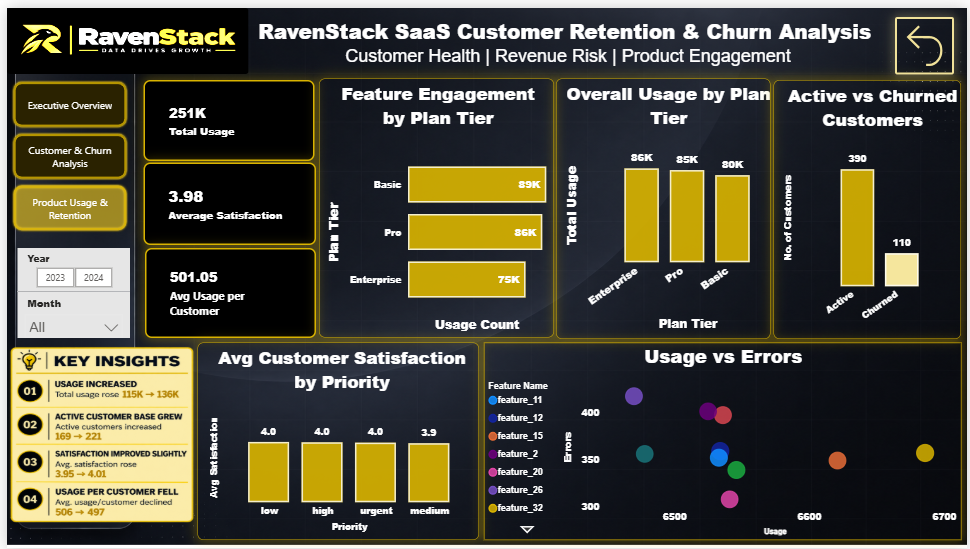

What the dashboard file says about the page in this screenshot:
{"tool":"powerbi","page":{"name":"Product Usage & Retention","canvas":[1280,720],"ordinal":2},"visuals":[{"type":"textbox","box":[322.5,7.5,850,80],"z":0},{"type":"cardVisual","fields":{"Data":["ravenstack_feature_usage.Total_Usage"]},"box":[182,96,228,108],"z":1000},{"type":"cardVisual","fields":{"Data":["ravenstack_support_tickets.Avg_Satisfaction"]},"box":[182,206,230,110],"z":2000},{"type":"cardVisual","fields":{"Data":["ravenstack_feature_usage.Avg_Usage/Customer"]},"box":[184,320,228,120],"z":3000},{"type":"columnChart","title":"Avg Customer Satisfaction by Priority","fields":{"Y":["ravenstack_support_tickets.Avg_Satisfaction"],"Category":["ravenstack_support_tickets.Priority"]},"box":[253.3,446.7,375,263.3],"z":4000},{"type":"columnChart","title":"Overall Usage                   by Plan  Tier","fields":{"Category":["ravenstack_subscriptions.Plan Tier"],"Y":["ravenstack_feature_usage.Total_Usage"]},"box":[732,93.3,286,347],"z":5000},{"type":"clusteredBarChart","title":"Feature Engagement by Plan Tier","fields":{"Y":["Sum(ravenstack_feature_usage.Usage Count)"],"Category":["ravenstack_accounts.Plan Tier"]},"box":[415,93.3,313.3,345],"z":6000},{"type":"slicer","fields":{"Values":["Date_Table.Month"]},"box":[14,378,150,62],"z":7000},{"type":"slicer","fields":{"Values":["Date_Table.Year"]},"box":[14,320,150,58],"z":8000},{"type":"columnChart","title":"Active vs Churned Customers","fields":{"Y":["CountNonNull(ravenstack_accounts.Account ID)"],"Category":["ravenstack_accounts.Customer Status"]},"box":[1021,95,250,345],"z":9000},{"type":"scatterChart","title":"Usage vs Errors","fields":{"X":["Sum(ravenstack_feature_usage.Usage Count)"],"Y":["Sum(ravenstack_feature_usage.Error Count)"],"Series":["ravenstack_feature_usage.Feature Name"],"Size":["Sum(ravenstack_feature_usage.Usage Duration (sec))"]},"box":[635,446.7,636.7,263.3],"z":10000},{"type":"actionButton","box":[1183.3,11.7,78.3,76.7],"z":11000},{"type":"image","box":[0,0,322,88],"z":12000},{"type":"image","box":[0,428.3,253.3,291.7],"z":13000},{"type":"pageNavigator","box":[6.7,95,156.7,203.3],"z":14000}]}

Visuals, with their boxes in screenshot pixels (x1, y1, x2, y2), scaled from the page's 1280x720 canvas onto the 970x549 screenshot:
textbox: BBox(244, 6, 889, 67)
cardVisual - ravenstack_feature_usage.Total_Usage: BBox(138, 73, 311, 156)
cardVisual - ravenstack_support_tickets.Avg_Satisfaction: BBox(138, 157, 312, 241)
cardVisual - ravenstack_feature_usage.Avg_Usage/Customer: BBox(139, 244, 312, 336)
"Avg Customer Satisfaction by Priority" columnChart: BBox(192, 341, 476, 541)
"Overall Usage                   by Plan  Tier" columnChart: BBox(555, 71, 771, 336)
"Feature Engagement by Plan Tier" clusteredBarChart: BBox(314, 71, 552, 334)
slicer - Date_Table.Month: BBox(11, 288, 124, 336)
slicer - Date_Table.Year: BBox(11, 244, 124, 288)
"Active vs Churned Customers" columnChart: BBox(774, 72, 963, 336)
"Usage vs Errors" scatterChart: BBox(481, 341, 964, 541)
actionButton: BBox(897, 9, 956, 67)
image: BBox(0, 0, 244, 67)
image: BBox(0, 327, 192, 548)
pageNavigator: BBox(5, 72, 124, 227)
